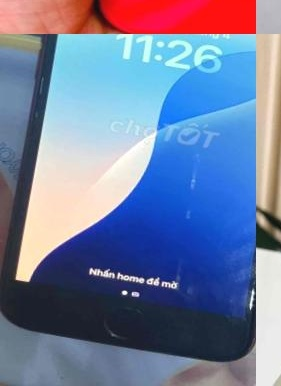scratch: (245, 281, 256, 309), (248, 249, 256, 278)
